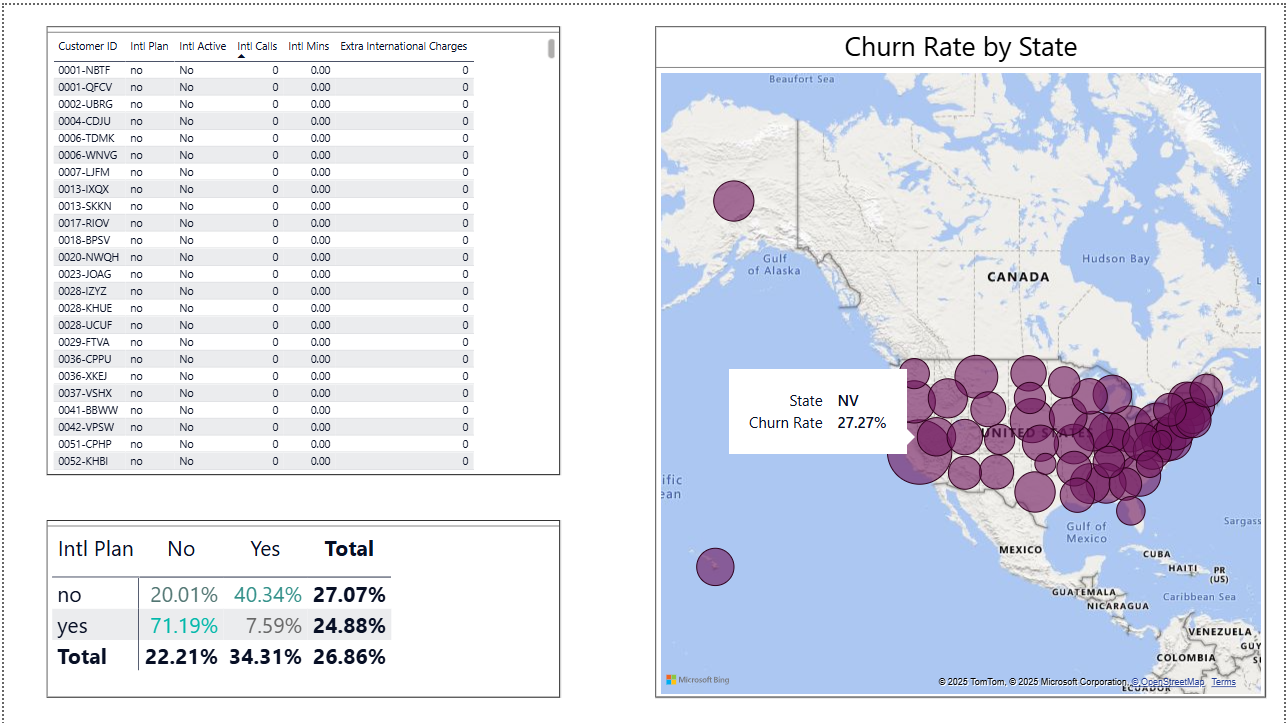

This screenshot's page, from the dashboard's own definition file:
{"tool":"powerbi","page":{"name":"International Plan","canvas":[1280,720],"ordinal":9},"visuals":[{"type":"tableEx","fields":{"Values":["Databel - Data.Customer ID","Databel - Data.Intl Plan","Databel - Data.Intl Active","Databel - Data.Intl Calls","Databel - Data.Intl Mins","Databel - Data.Extra International Charges"]},"box":[42.5,21.2,513.8,448.8],"z":0},{"type":"pivotTable","fields":{"Values":["Databel - Data.Churn Rate"],"Rows":["Databel - Data.Intl Plan"],"Columns":["Databel - Data.Intl Active"]},"box":[42.5,515,513.8,177.5],"z":1000},{"type":"map","fields":{"Category":["Databel - Data.State"],"Size":["Databel - Data.Churn Rate"]},"box":[651.2,21.2,610,671.2],"z":2000}]}

Visuals, with their boxes in screenshot pixels (x1, y1, x2, y2), scaled from the page's 1280x720 canvas onto the 1286x723 screenshot:
tableEx - Databel - Data.Customer ID x Databel - Data.Intl Plan: (43, 21, 559, 472)
pivotTable - Databel - Data.Churn Rate x Databel - Data.Intl Plan: (43, 517, 559, 695)
map - Databel - Data.State x Databel - Data.Churn Rate: (654, 21, 1267, 695)
